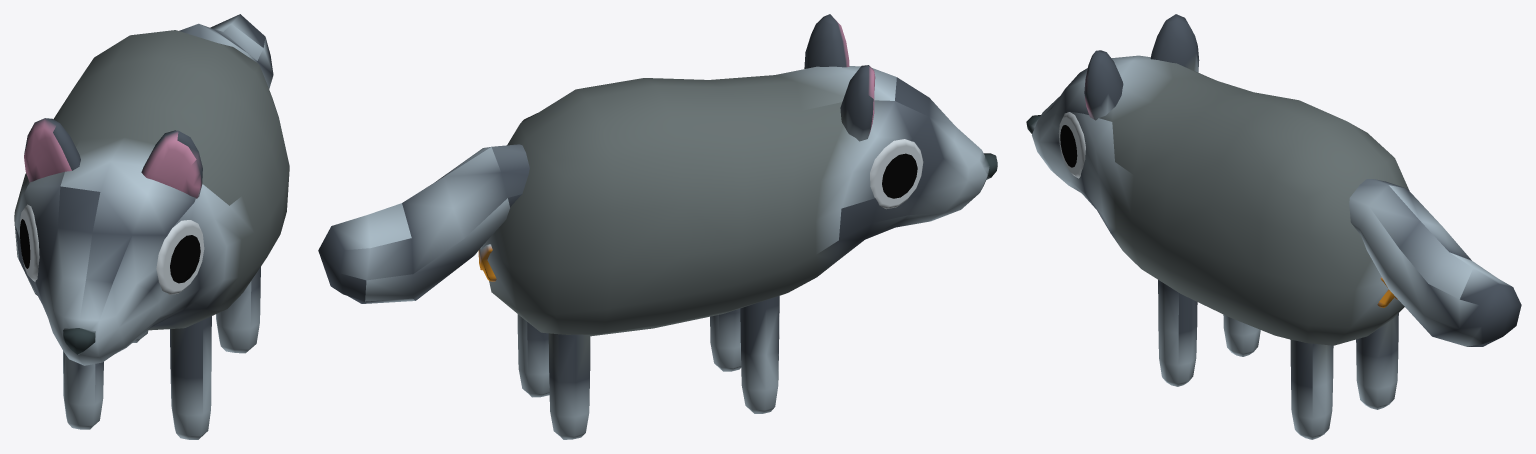
File: Raccoon.glb
The picture shows the model from 3 angles, left to right: view 1: azimuth 30°, elevation 25°; view 2: azimuth 150°, elevation 25°; view 3: azimuth 270°, elevation 25°; orthographic projection. The views are drawn at different scales.
Visible parts, largest first — view 1: 136; view 2: 136; view 3: 136.
Part boxes in pixels (<box>): 136: <box>14,14,289,439</box>; 136: <box>318,14,997,439</box>; 136: <box>1026,14,1521,439</box>.
Size of the model in its own units: 0.871 by 0.6419 by 0.9367.
